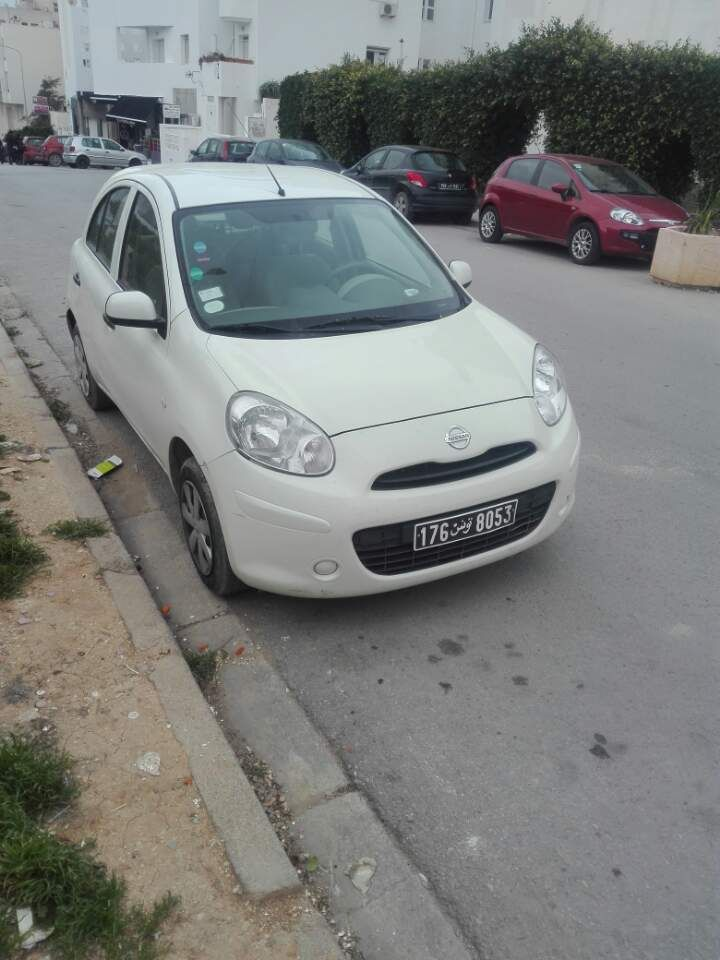LP: (413, 495, 520, 553)
